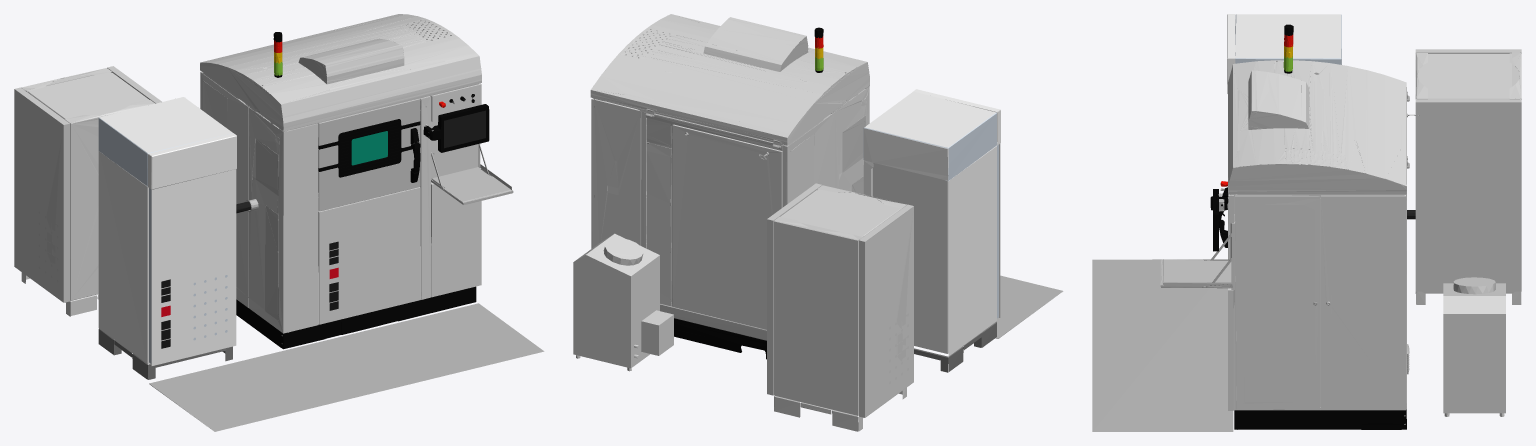
The model's file is pbfSkin.glb.
The picture shows the model from 3 angles, left to right: view 1: azimuth 30°, elevation 25°; view 2: azimuth 150°, elevation 25°; view 3: azimuth 270°, elevation 25°; orthographic projection. The views are drawn at different scales.
Parts seen in each view (by area): view 1: GameObject_mesh_mesh_1.007, GameObject_mesh_mesh_13.002, GameObject_mesh_mesh_13.004, GameObject_mesh_mesh_13.005, Cube.003, GameObject_mesh_mesh_13.007, GameObject_mesh_mesh_13.006, GameObject_mesh_mesh_10.001, Cube.004, GameObject_mesh_mesh_1.006, GameObject_mesh_mesh_1.005, GameObject_mesh_mesh_12.001 (+5 smaller); view 2: GameObject_mesh_mesh_1.007, GameObject_mesh_mesh_13.004, GameObject_mesh_mesh_13.001, GameObject_mesh_mesh_13.007, GameObject_mesh_mesh_13.006, Cube.002, GameObject_mesh_mesh_1.005, GameObject_mesh_mesh_13.002, GameObject_mesh_mesh_1.004, GameObject_mesh_mesh_1.006, Cube, GameObject_mesh_mesh_13.005; view 3: GameObject_mesh_mesh_1.007, GameObject_mesh_mesh_13.004, GameObject_mesh_mesh_13.002, GameObject_mesh_mesh_13.001, GameObject_mesh_mesh_1.005, GameObject_mesh_mesh_13.006, GameObject_mesh_mesh_1.006, GameObject_mesh_mesh_12.001, Cube, Cube.004, GameObject_mesh_mesh_14.002.
Boxes of the visible parts, x1,y1,x2,y2 form: GameObject_mesh_mesh_1.007: (200,14,481,333); GameObject_mesh_mesh_13.002: (149,303,544,431); GameObject_mesh_mesh_13.004: (14,66,161,316); GameObject_mesh_mesh_13.005: (149,169,236,365); Cube.003: (318,187,420,324); GameObject_mesh_mesh_13.007: (98,151,232,379); GameObject_mesh_mesh_13.006: (98,97,236,189); GameObject_mesh_mesh_10.001: (318,98,420,211); Cube.004: (431,183,481,297); GameObject_mesh_mesh_1.006: (236,77,476,349); GameObject_mesh_mesh_1.005: (201,20,481,320); GameObject_mesh_mesh_12.001: (431,164,513,205); GameObject_mesh_mesh_1.007: (590,14,869,329); GameObject_mesh_mesh_13.004: (767,183,913,431); GameObject_mesh_mesh_13.001: (573,233,673,371); GameObject_mesh_mesh_13.007: (863,145,996,372); GameObject_mesh_mesh_13.006: (863,89,1000,181); Cube.002: (872,163,948,353); GameObject_mesh_mesh_1.005: (625,29,865,194); GameObject_mesh_mesh_13.002: (981,275,1063,338); GameObject_mesh_mesh_1.004: (594,45,869,340); GameObject_mesh_mesh_1.006: (674,72,817,359); Cube: (593,35,862,305); GameObject_mesh_mesh_13.005: (997,140,1000,318); GameObject_mesh_mesh_1.007: (1228,60,1406,410); GameObject_mesh_mesh_13.004: (1415,49,1521,304); GameObject_mesh_mesh_13.002: (1092,259,1233,431); GameObject_mesh_mesh_13.001: (1443,277,1505,416); GameObject_mesh_mesh_1.005: (1228,85,1406,194); GameObject_mesh_mesh_13.006: (1227,14,1341,93); GameObject_mesh_mesh_1.006: (1219,72,1406,429); GameObject_mesh_mesh_12.001: (1160,259,1232,288); Cube: (1232,93,1404,410); Cube.004: (1228,288,1233,410); GameObject_mesh_mesh_14.002: (1210,189,1223,251).
Size of the model in its own units: 2.61 by 2.21 by 2.74.
